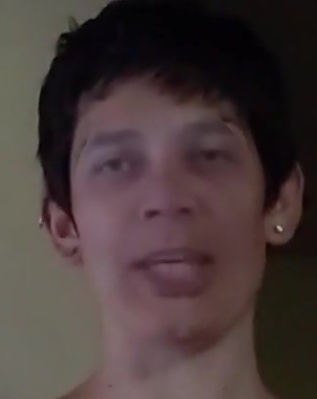eb_f: (72, 111, 259, 188)
